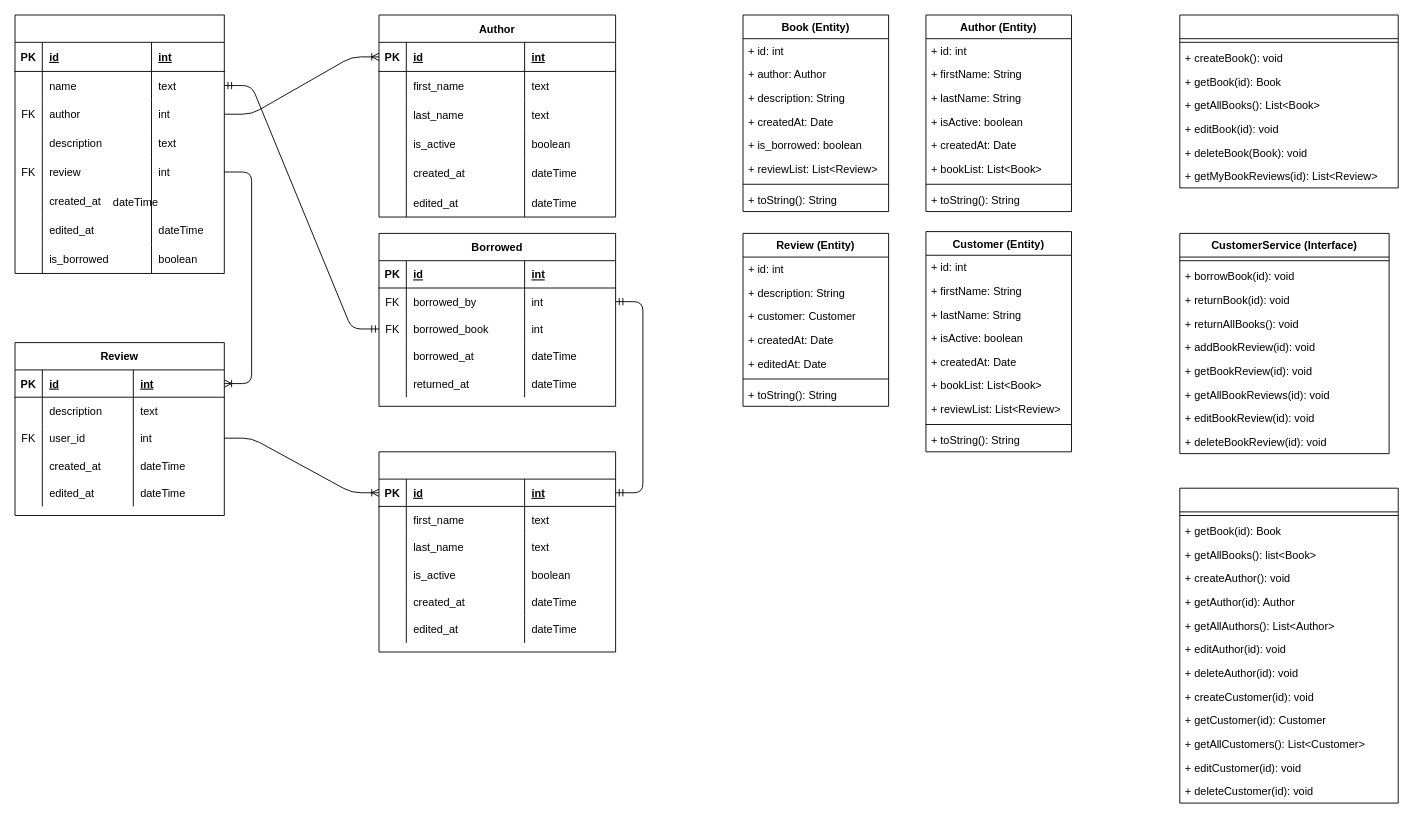
The diagram is 1413 pixels wide and 818 high, and some of its shapes have lost their labels. The shapes that lost their labels are listed below. From the top down, each one's box as (x1, y1, x2, y2) in pixels, then its label:
(1179, 14, 1398, 188): AuthorService (interface)
(14, 14, 224, 273): Book
(378, 451, 616, 652): Customer
(1179, 487, 1398, 803): Services
